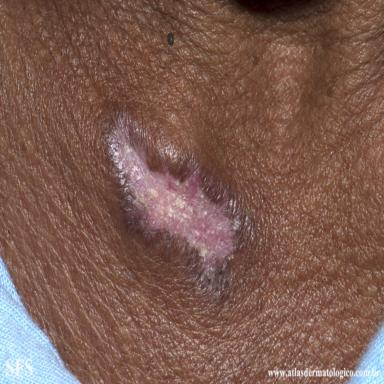Lupus-Erythematosus-Chronicus-Discoides: (103, 113, 243, 292)
